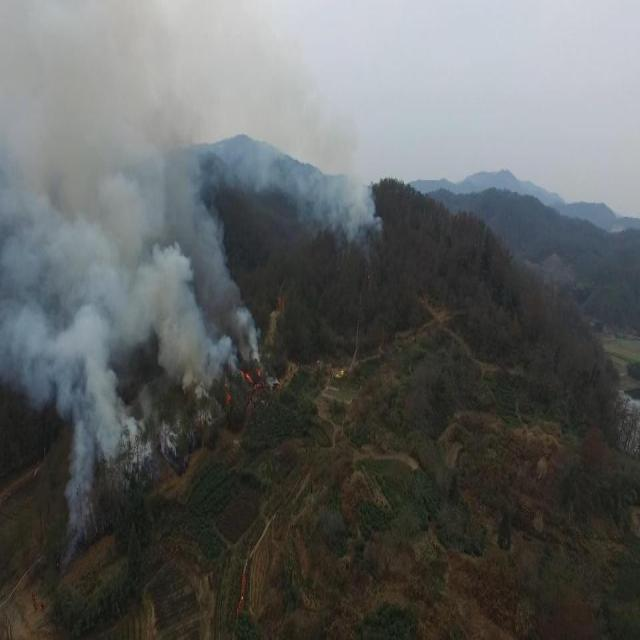Fire: (246, 368, 262, 388)
Smoke: (1, 2, 384, 566)
